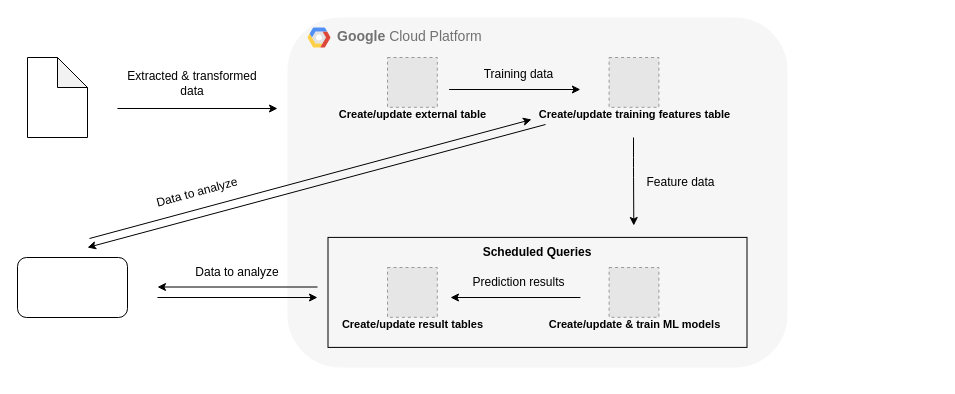
The diagram is 955 pixels wide and 394 high, and some of its shapes have lost their labels. Grey dashed boxes stand in for pictures. The centre of each missing label's shape, as x and y in pixels:
"main.py" goes at (x=57, y=97).
"Power BI" goes at (x=72, y=287).
